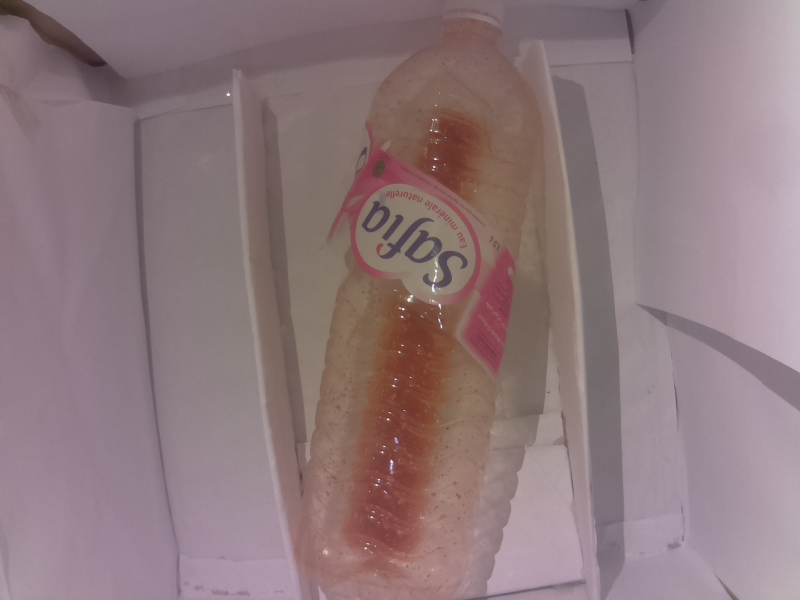botolplastik: (301, 1, 535, 600)
